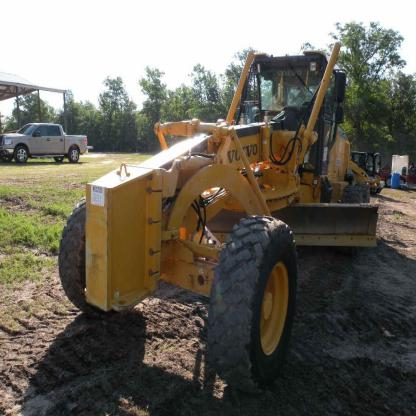bull_dozer/loader/grader: (50, 30, 397, 382)
